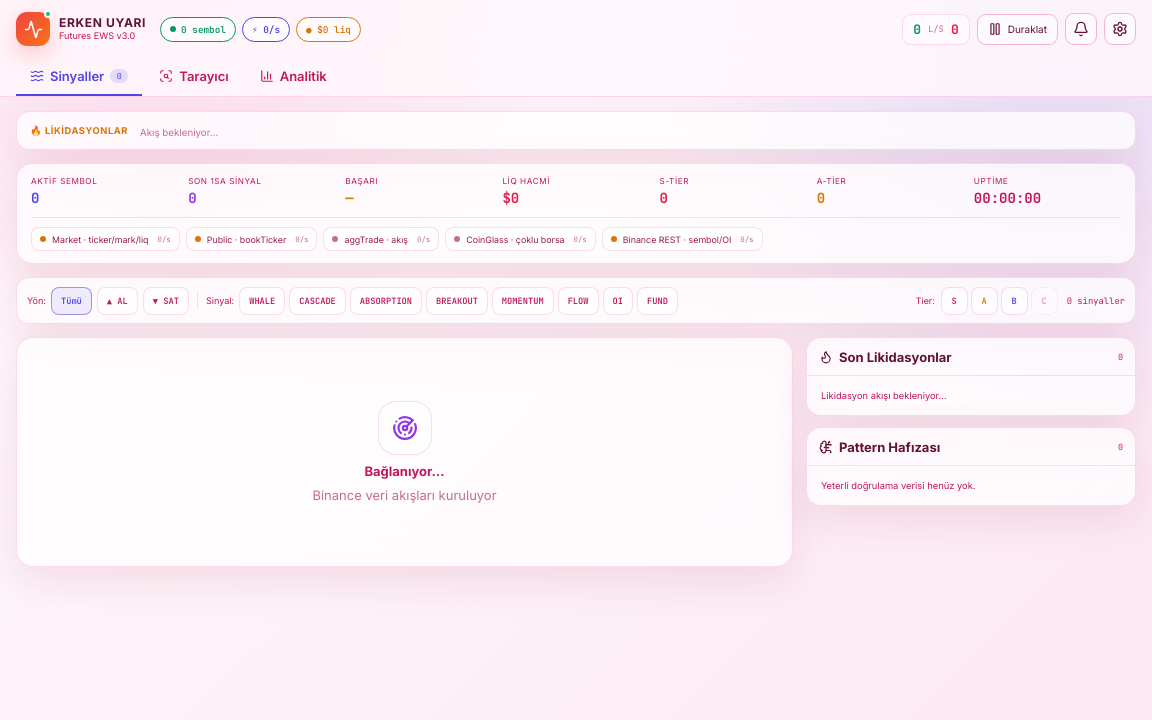
it: React application shell › opens settings, applies theme, and toggles pause
Step 1. Click the button named "Ayarlar" → coordinates (1120, 29), box [1104,13,1136,45]
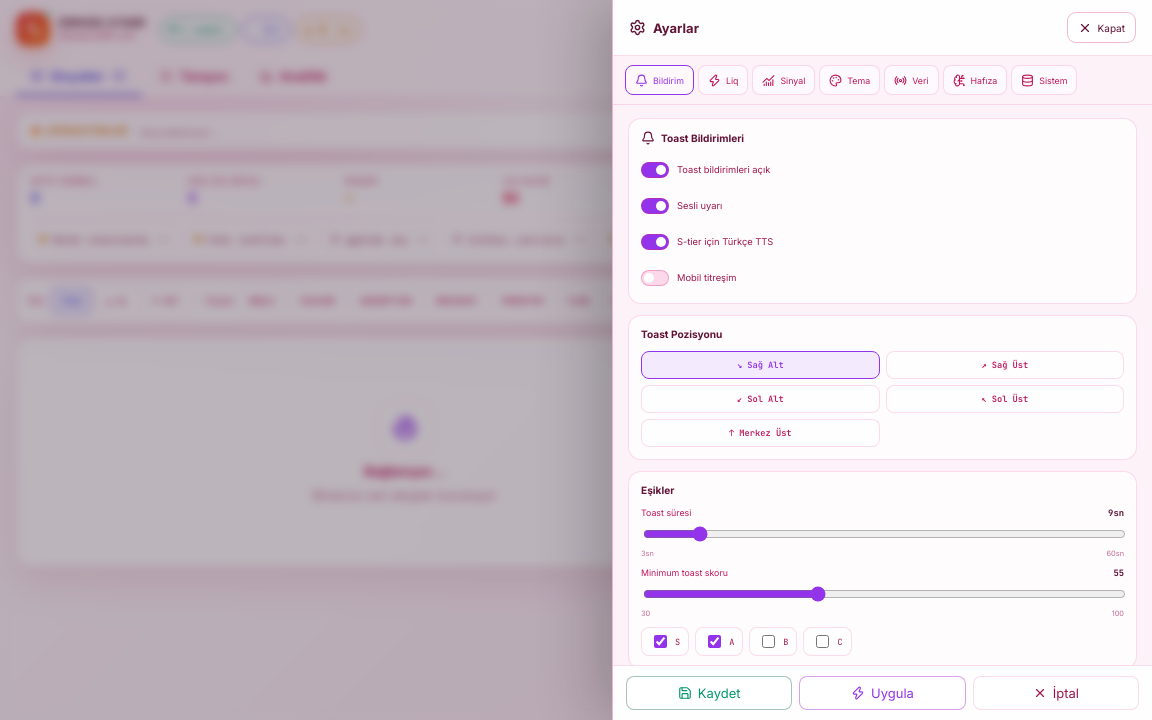
Result: the dialog "Ayarlar" is shown at [612,0,1151,719]
Step 2. Click the button "Tema" → coordinates (850, 80), box [819,65,880,95]
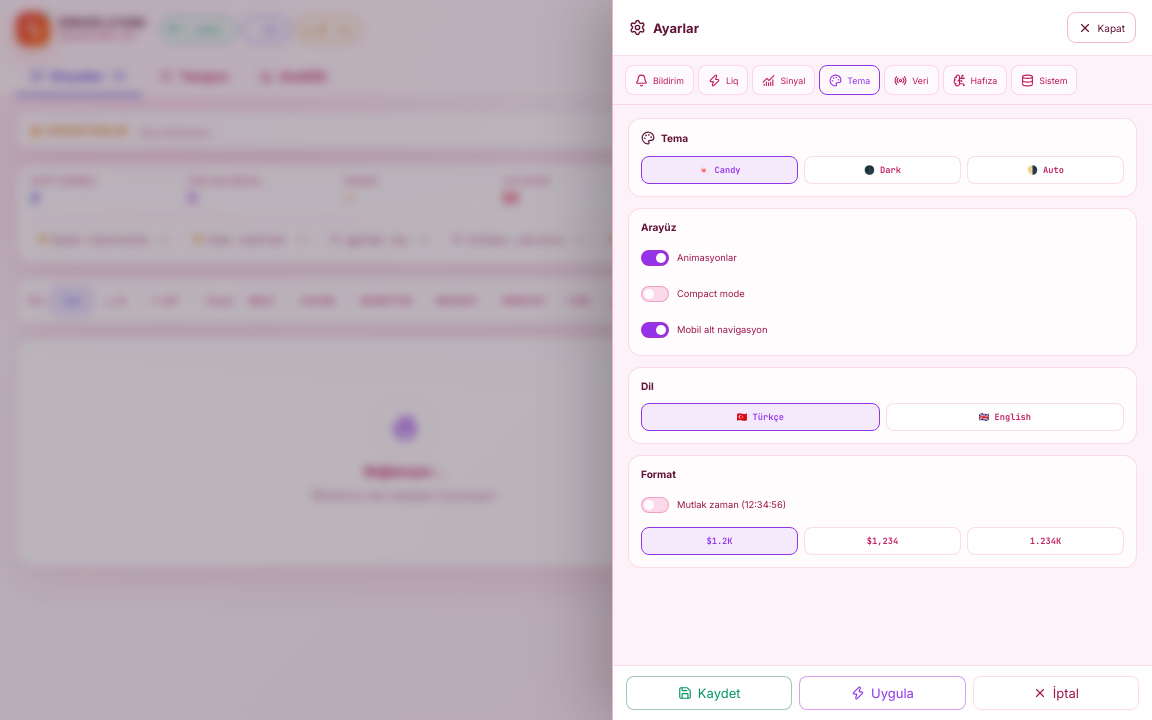
Step 3. Click the button "🌑 Dark" → coordinates (882, 170), box [804,156,961,184]
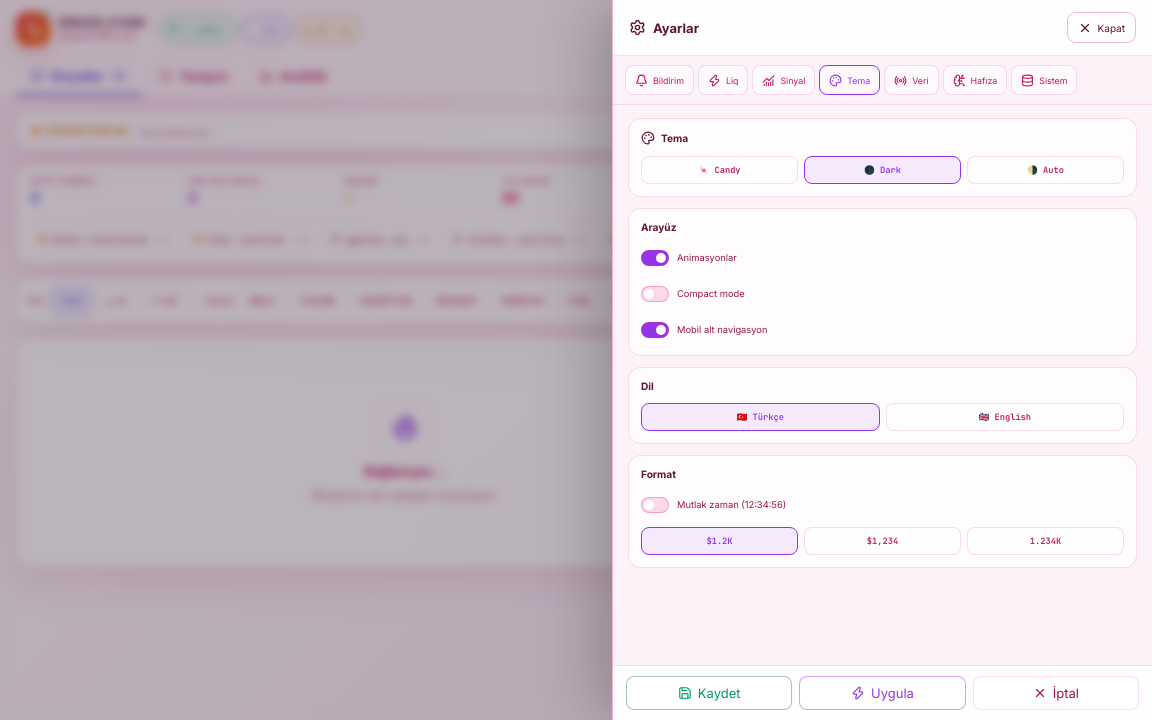
Step 4. Click the button "Kaydet" → coordinates (709, 693), box [626,676,792,710]
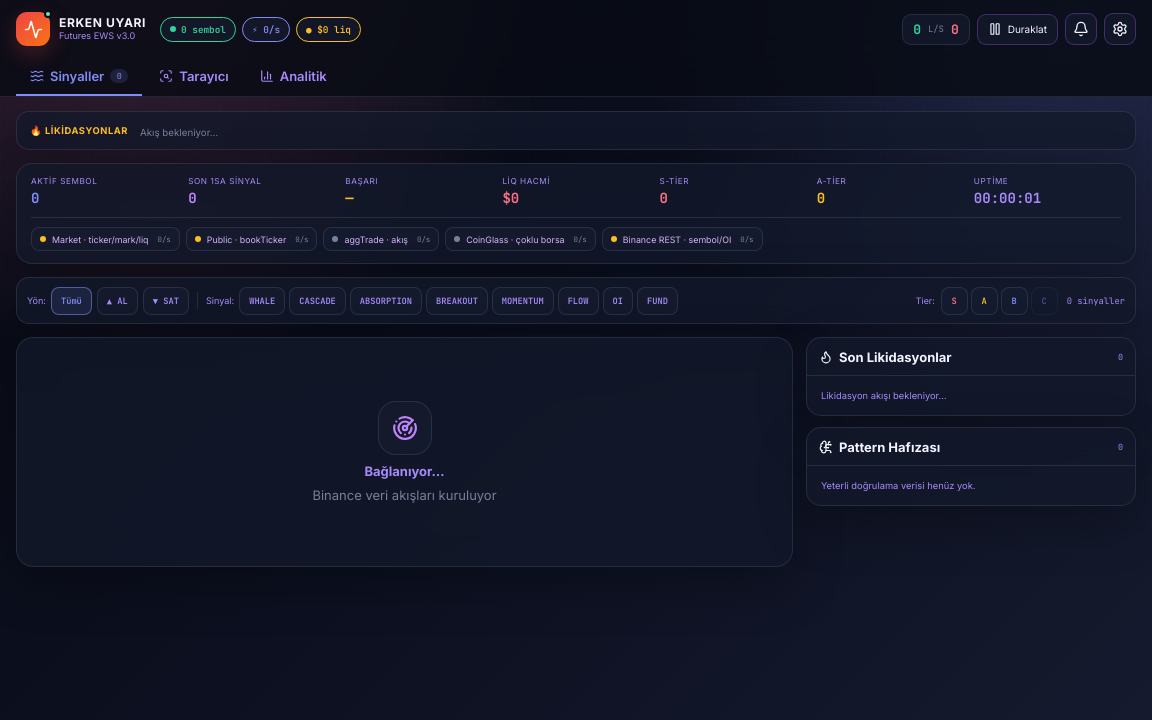
Step 5. Click the button "Duraklat" → coordinates (1017, 29), box [977,14,1058,44]
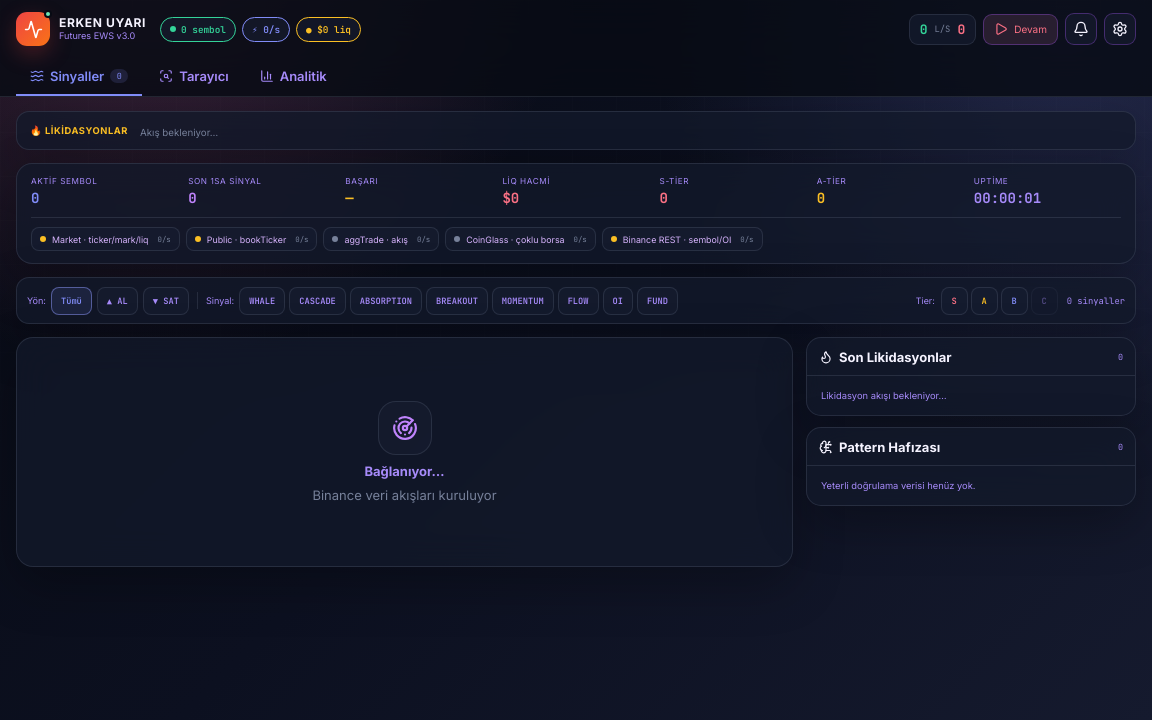
Result: the button "Devam" is shown at [983,14,1058,44]
